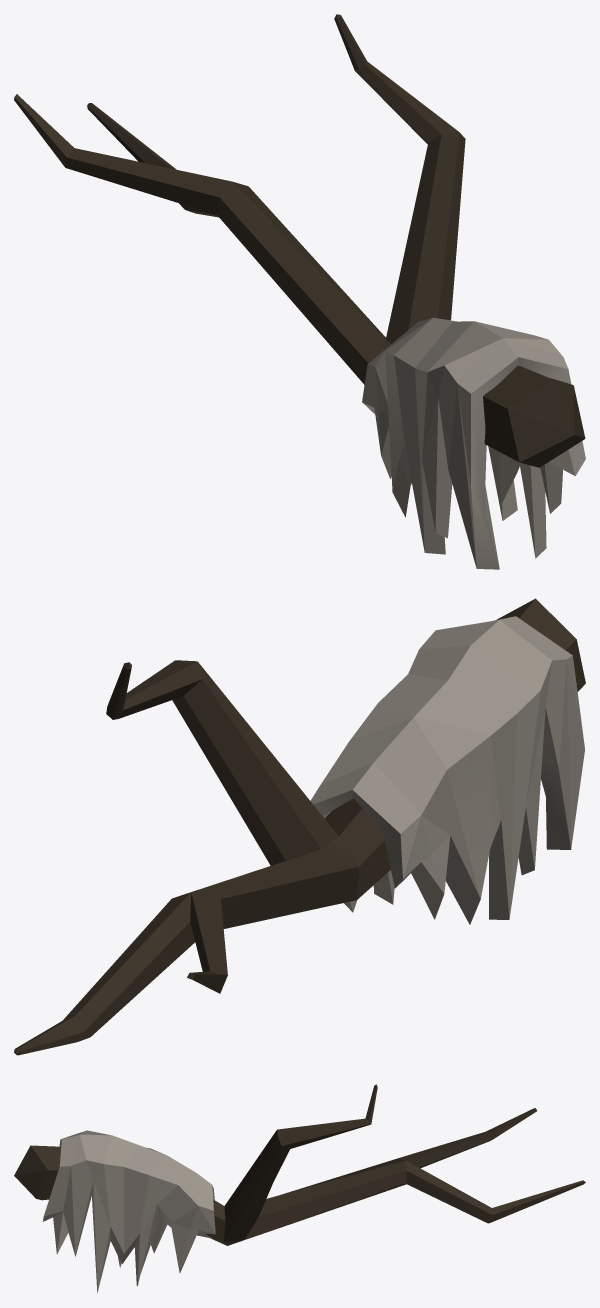
The model's file is synty-tree-swamp-branch-01.gltf.
The picture shows the model from 3 angles, top to bottom: view 1: azimuth 30°, elevation 25°; view 2: azimuth 150°, elevation 25°; view 3: azimuth 270°, elevation 25°; orthographic projection. The views are drawn at different scales.
Parts seen in each view (by area): view 1: SM_Tree_Swamp_Branch_01; view 2: SM_Tree_Swamp_Branch_01; view 3: SM_Tree_Swamp_Branch_01.
Boxes of the visible parts, bbox=[...] form: SM_Tree_Swamp_Branch_01: bbox=[14, 14, 585, 569]; SM_Tree_Swamp_Branch_01: bbox=[14, 598, 585, 1055]; SM_Tree_Swamp_Branch_01: bbox=[14, 1084, 585, 1292].
Size of the model in its own units: 0.5219 by 0.7593 by 1.8.
1 material, 1 textured.
